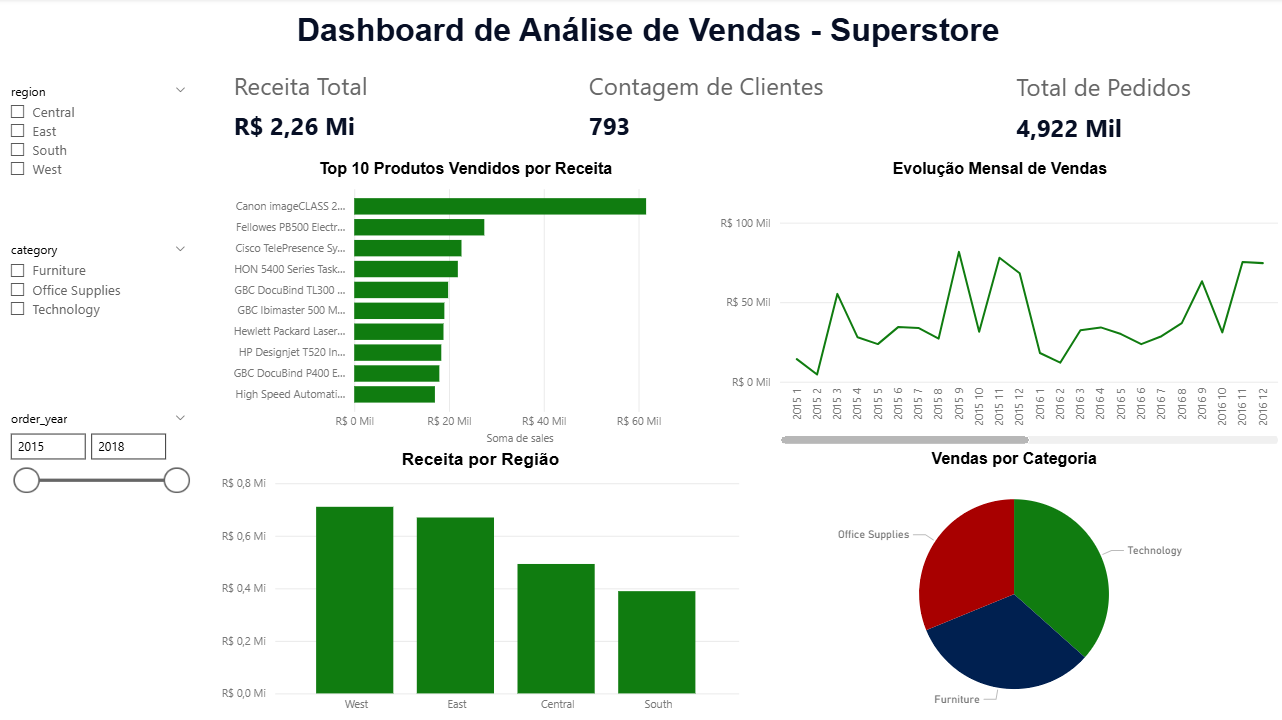

Layout of this report page (visuals, bound fields, positions):
{"tool":"powerbi","page":{"name":"Página 1","canvas":[1280,720],"ordinal":0},"visuals":[{"type":"clusteredBarChart","title":"Top 10 Produtos Vendidos por Receita","fields":{"Category":["public vw_vendas_resumo.product_name"],"Y":["Sum(public vw_vendas_resumo.sales)"]},"box":[217.7,160.5,495.1,288.6],"z":0},{"type":"clusteredColumnChart","title":"Receita por Região","fields":{"Category":["public vw_vendas_resumo.region"],"Y":["Sum(public vw_vendas_resumo.sales)"]},"box":[217.7,449.1,525,271.2],"z":1000},{"type":"lineChart","title":"Evolução Mensal de Vendas","fields":{"Y":["Sum(public vw_vendas_resumo.sales)"],"Category":["public vw_vendas_resumo.order_year","public vw_vendas_resumo.order_month"]},"box":[714,160.5,566,288.6],"z":2000},{"type":"pieChart","title":"Vendas por Categoria","fields":{"Category":["public vw_vendas_resumo.category"],"Y":["Sum(public vw_vendas_resumo.sales)"]},"box":[742.6,449.1,537.4,271.2],"z":3000},{"type":"cardVisual","fields":{"Data":["Sum(public vw_vendas_resumo.sales)"]},"box":[217.7,56,197.8,103.2],"z":4000},{"type":"cardVisual","fields":{"Data":["Count(public vw_vendas_resumo.order_id)"]},"box":[996.4,57.2,217.7,102],"z":5000},{"type":"cardVisual","fields":{"Data":["Count(public vw_vendas_resumo.customer_id)"]},"box":[571,56,286.1,103.2],"z":6000},{"type":"slicer","fields":{"Values":["public vw_vendas_resumo.region"]},"box":[0,79.6,199,158],"z":6001},{"type":"slicer","fields":{"Values":["public vw_vendas_resumo.category"]},"box":[0,238,199,161],"z":6002},{"type":"slicer","fields":{"Values":["public vw_vendas_resumo.order_year"]},"box":[0,406,199,314],"z":6003},{"type":"textbox","box":[292.3,8.7,842.2,48.5],"z":6004}]}

Visuals, with their boxes in screenshot pixels (x1, y1, x2, y2), scaled from the page's 1280x720 canvas onto the 1282x720 screenshot:
"Top 10 Produtos Vendidos por Receita" clusteredBarChart: region(218, 160, 714, 449)
"Receita por Região" clusteredColumnChart: region(218, 449, 744, 719)
"Evolução Mensal de Vendas" lineChart: region(715, 160, 1281, 449)
"Vendas por Categoria" pieChart: region(744, 449, 1281, 719)
cardVisual - Sum(public vw_vendas_resumo.sales): region(218, 56, 416, 159)
cardVisual - Count(public vw_vendas_resumo.order_id): region(998, 57, 1216, 159)
cardVisual - Count(public vw_vendas_resumo.customer_id): region(572, 56, 858, 159)
slicer - public vw_vendas_resumo.region: region(0, 80, 199, 238)
slicer - public vw_vendas_resumo.category: region(0, 238, 199, 399)
slicer - public vw_vendas_resumo.order_year: region(0, 406, 199, 719)
textbox: region(293, 9, 1136, 57)
